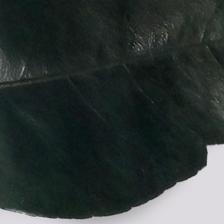healthy: (6, 4, 205, 200)
